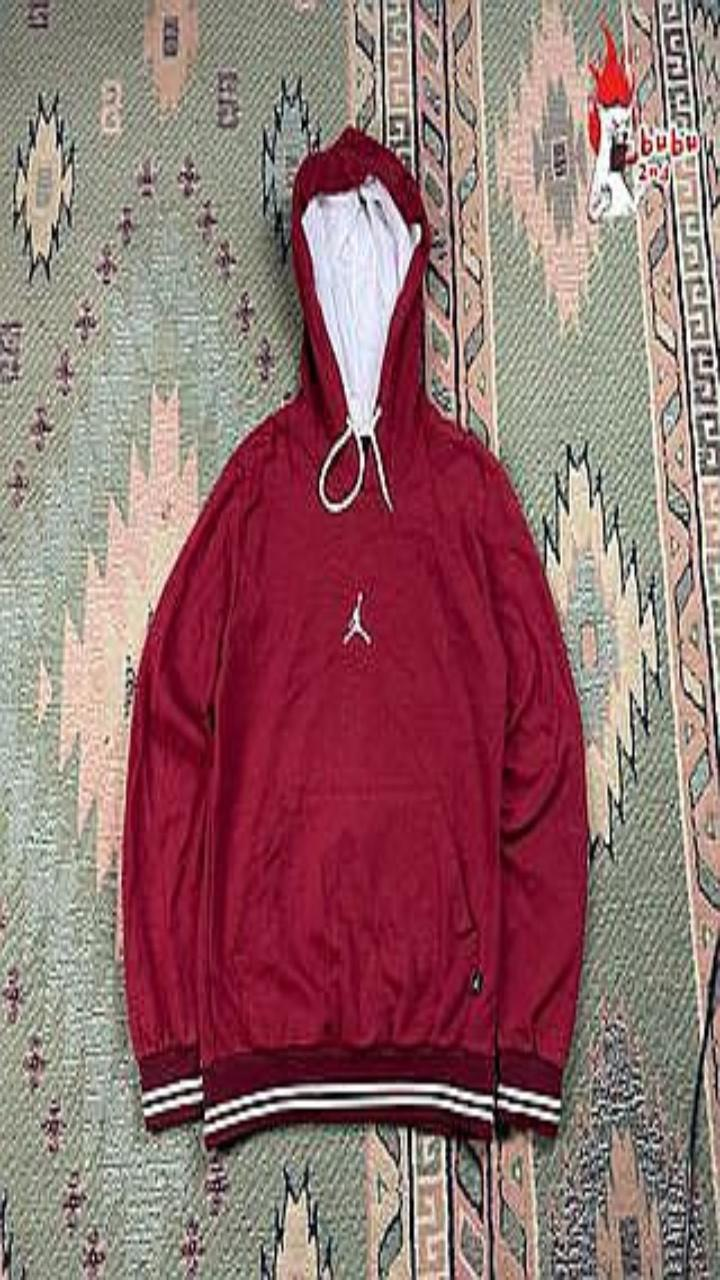Hoodie: (122, 126, 587, 1145)
